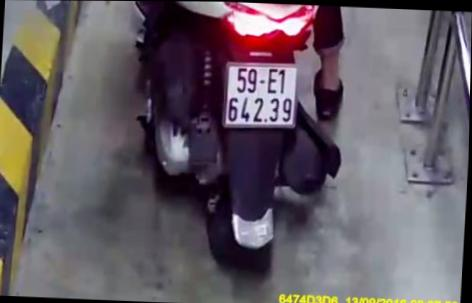LP: (223, 60, 301, 131)
